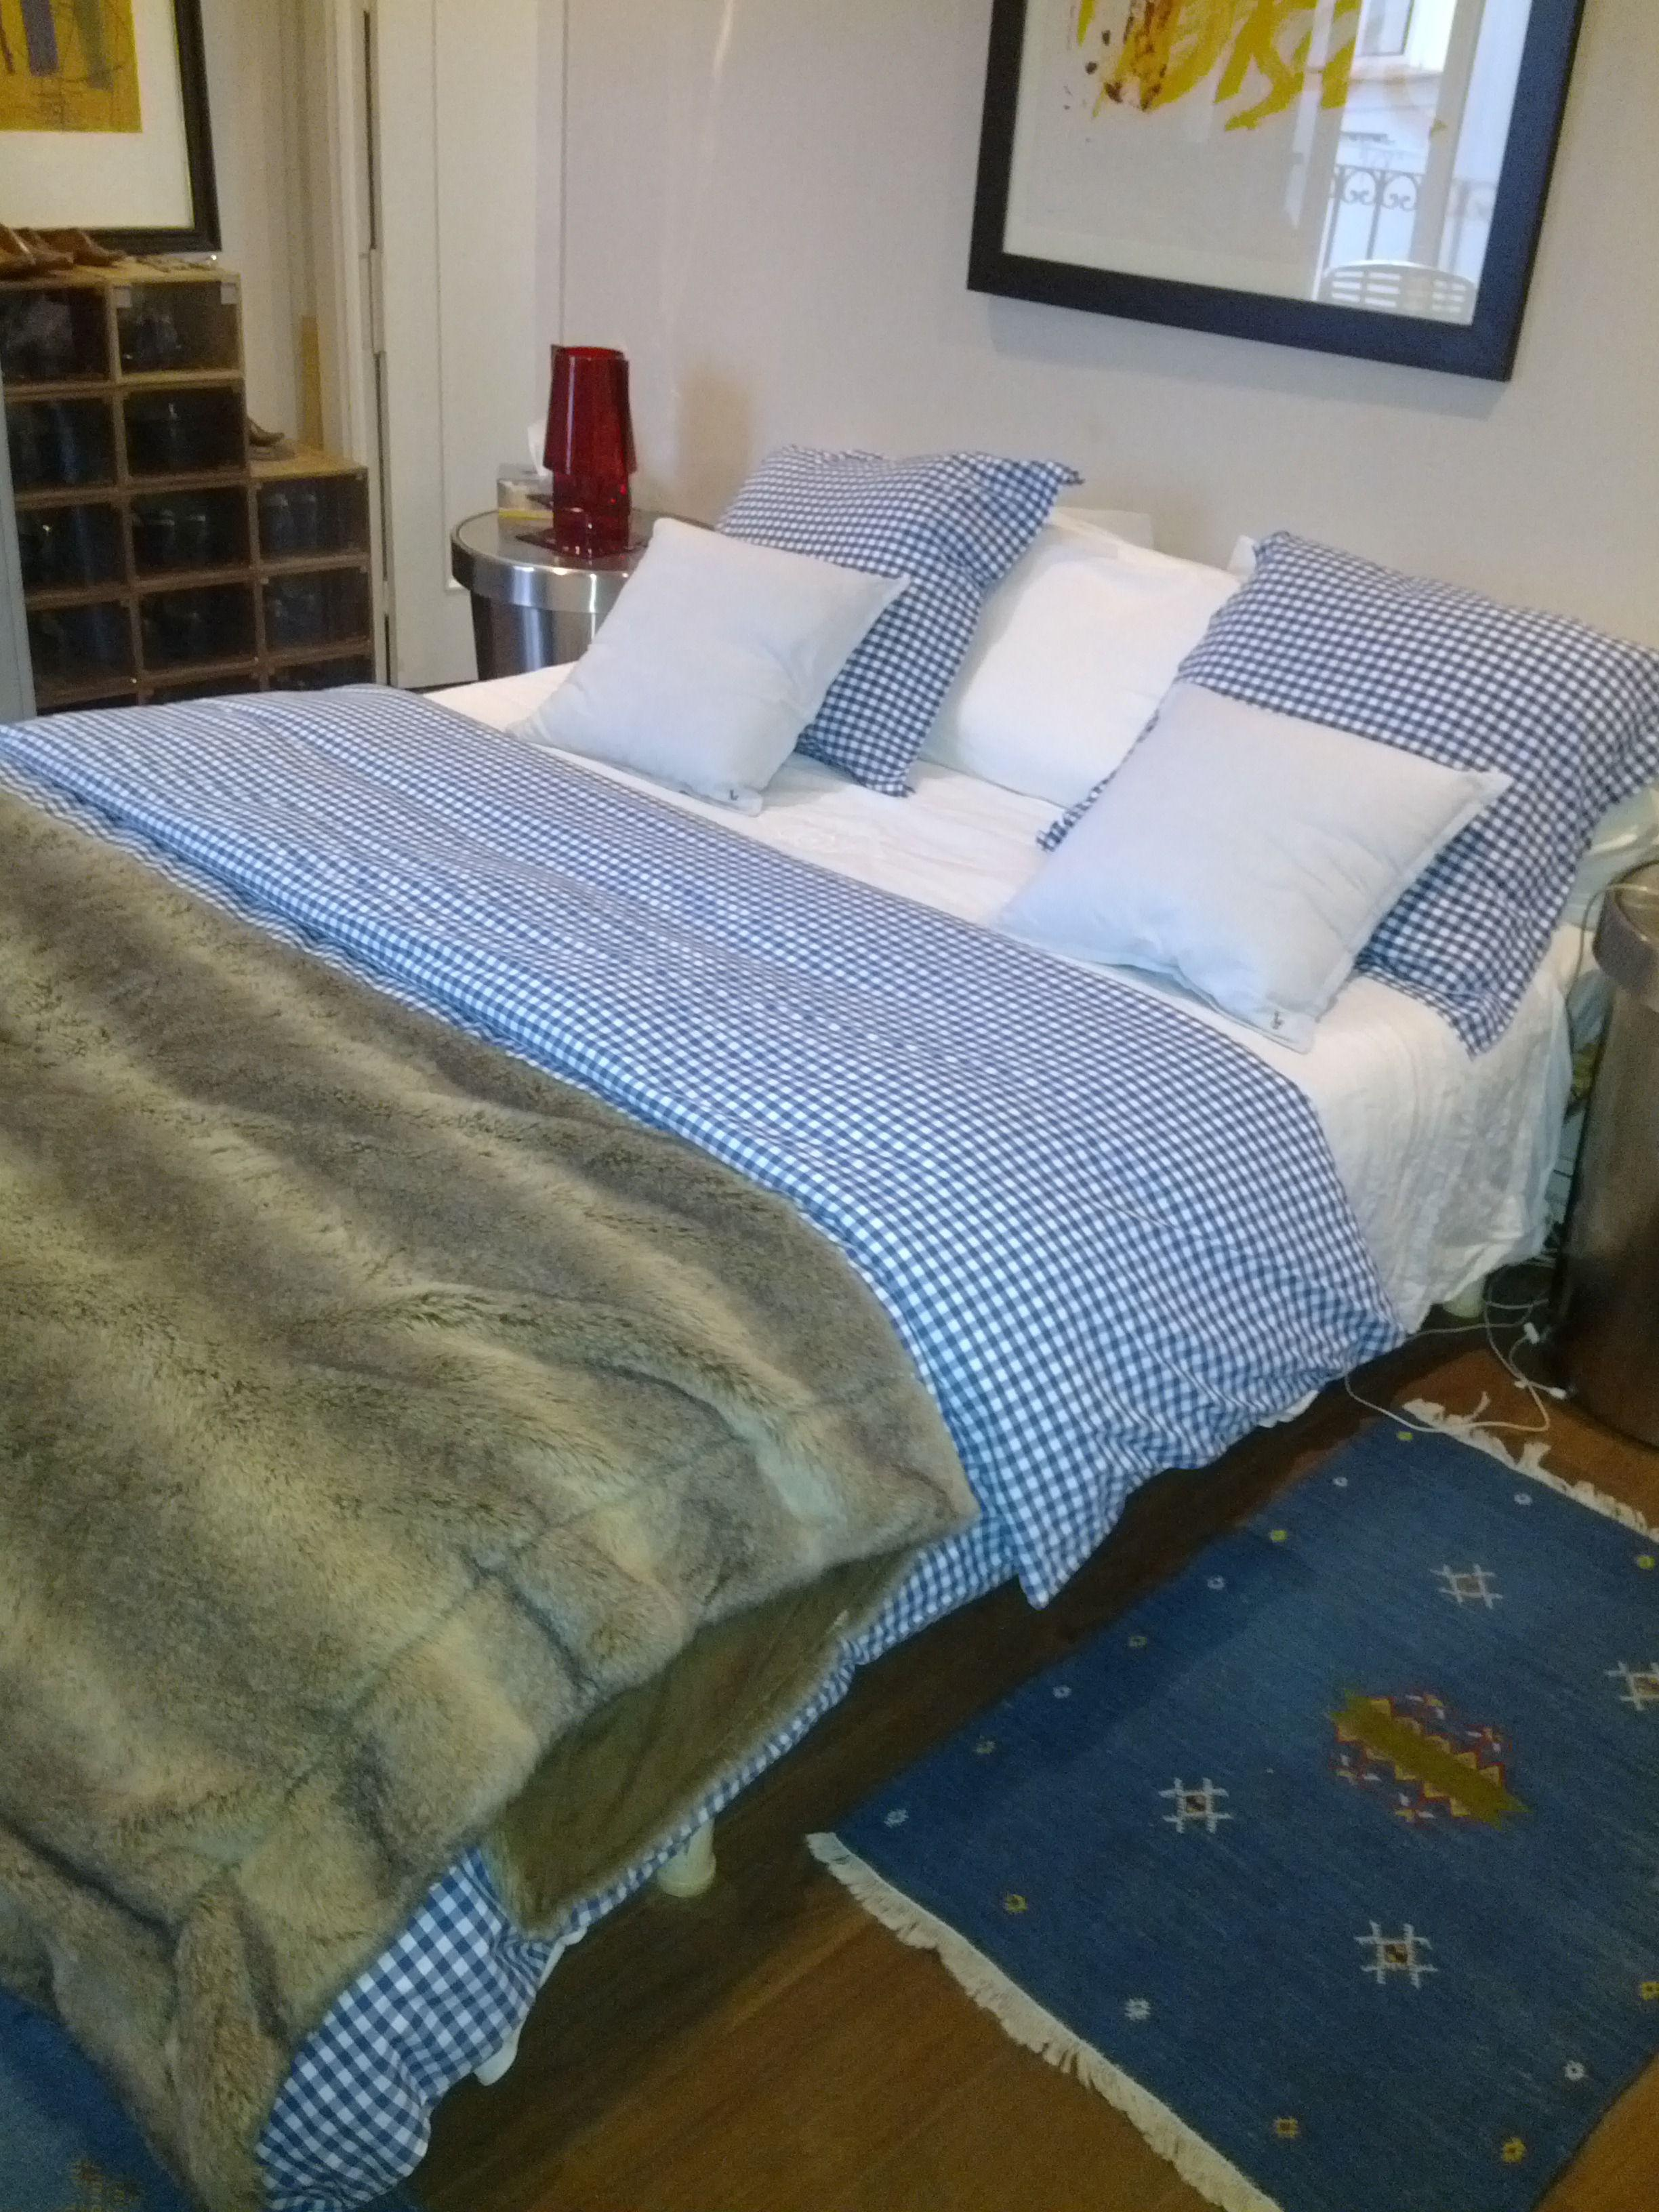bed: (115, 340, 1546, 1580)
